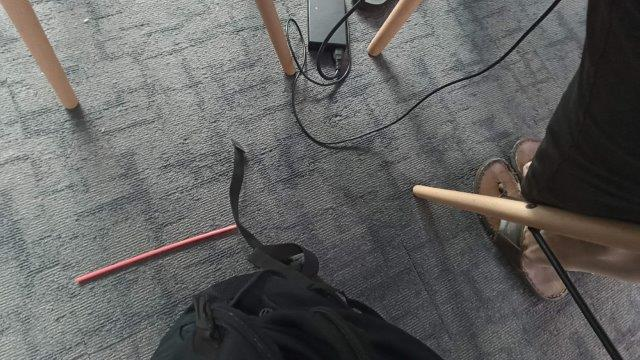sedotan: (75, 225, 236, 284)
